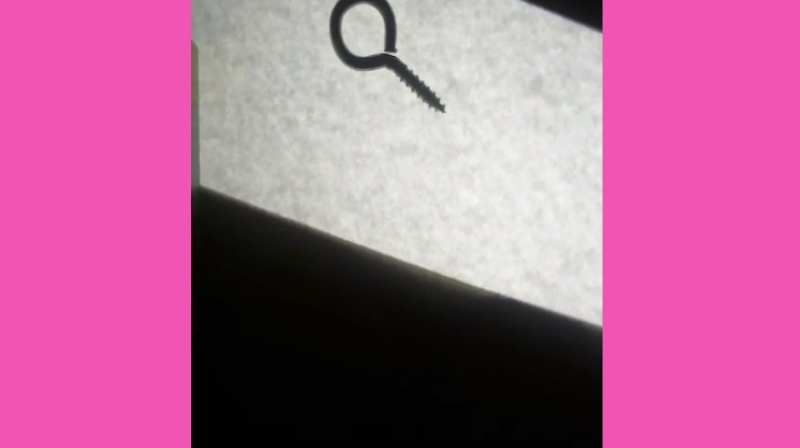O001: (324, 0, 447, 115)
